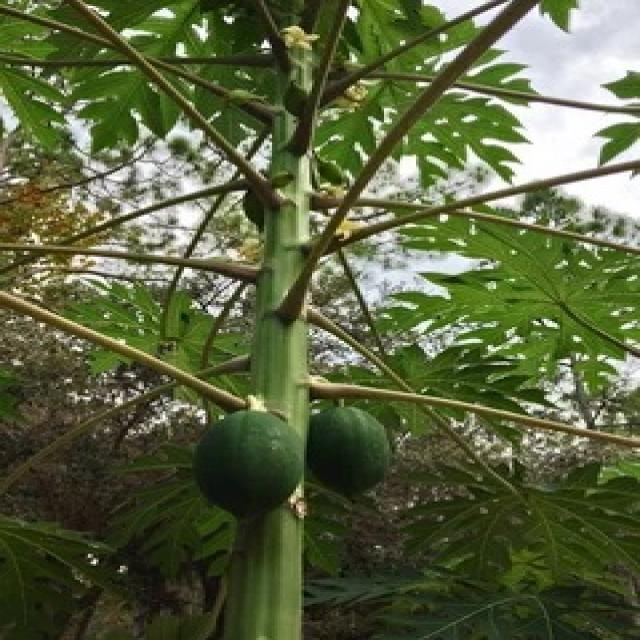Pepaya unrippen: (192, 411, 312, 516), (307, 397, 389, 498)
